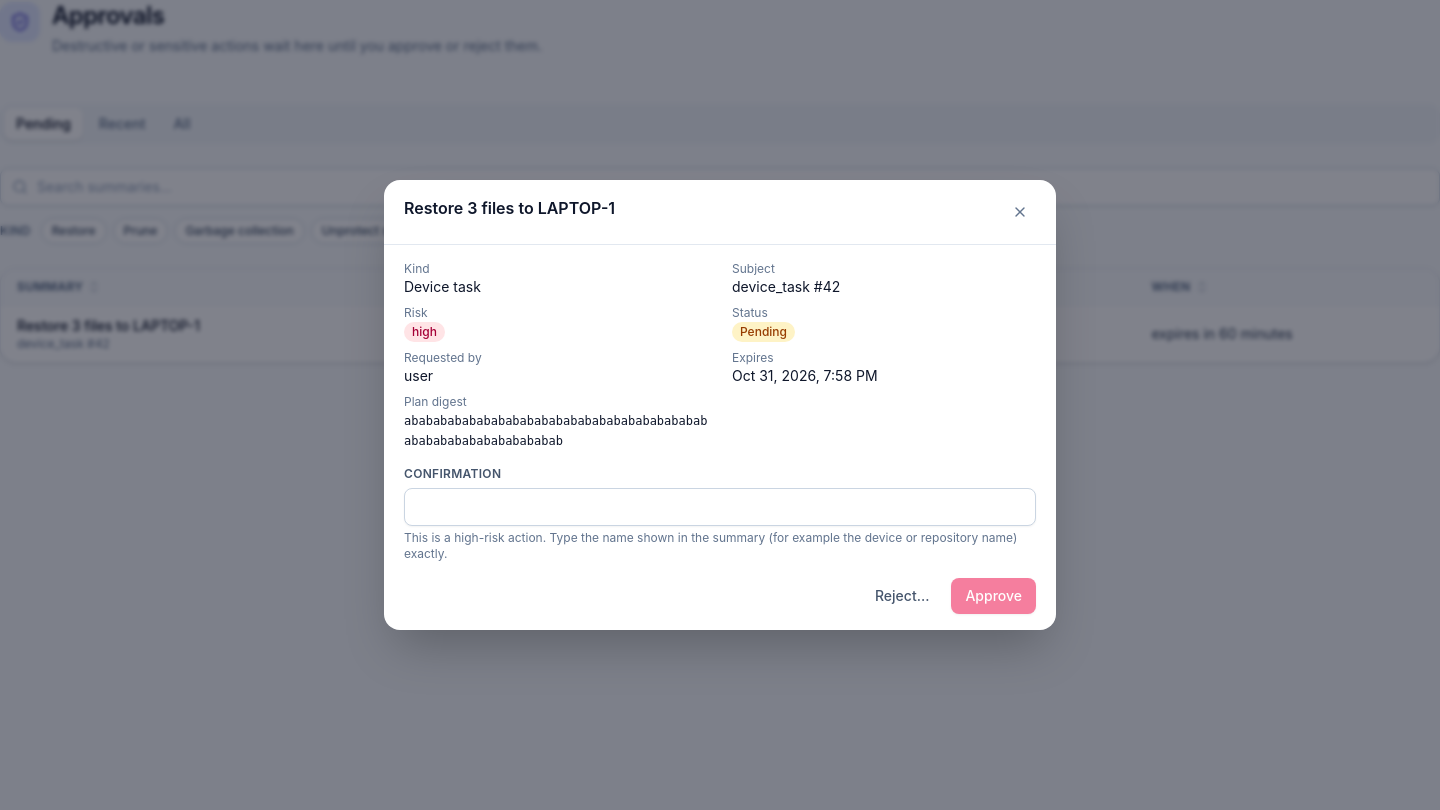
Test: ApprovalsPage › shows a clear message for 409 approval_not_pending
Type "X" into the field named "Confirmation text" at (720, 507), box [404,488,1036,526]
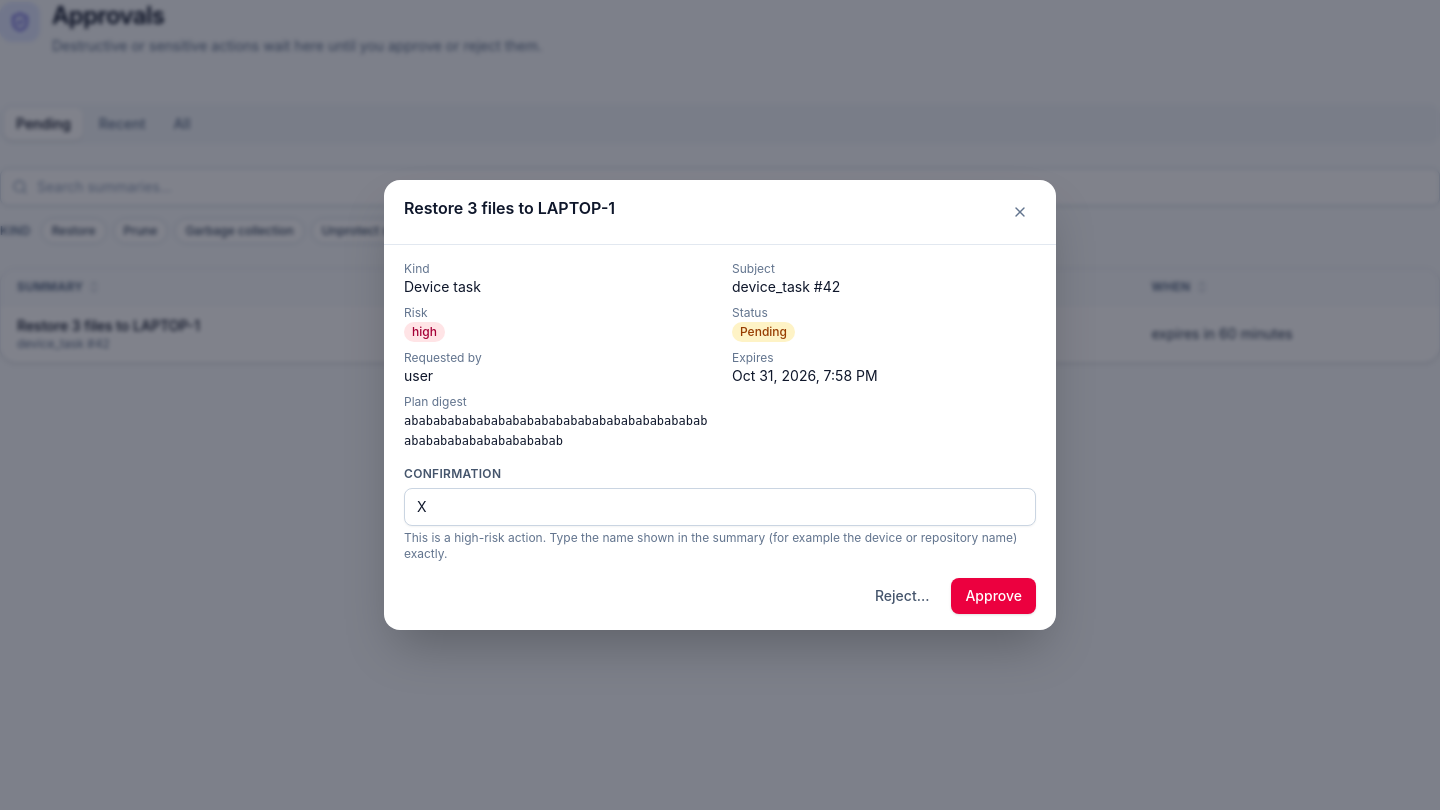
Click the button "Approve" at (994, 596), box [951,578,1036,614]
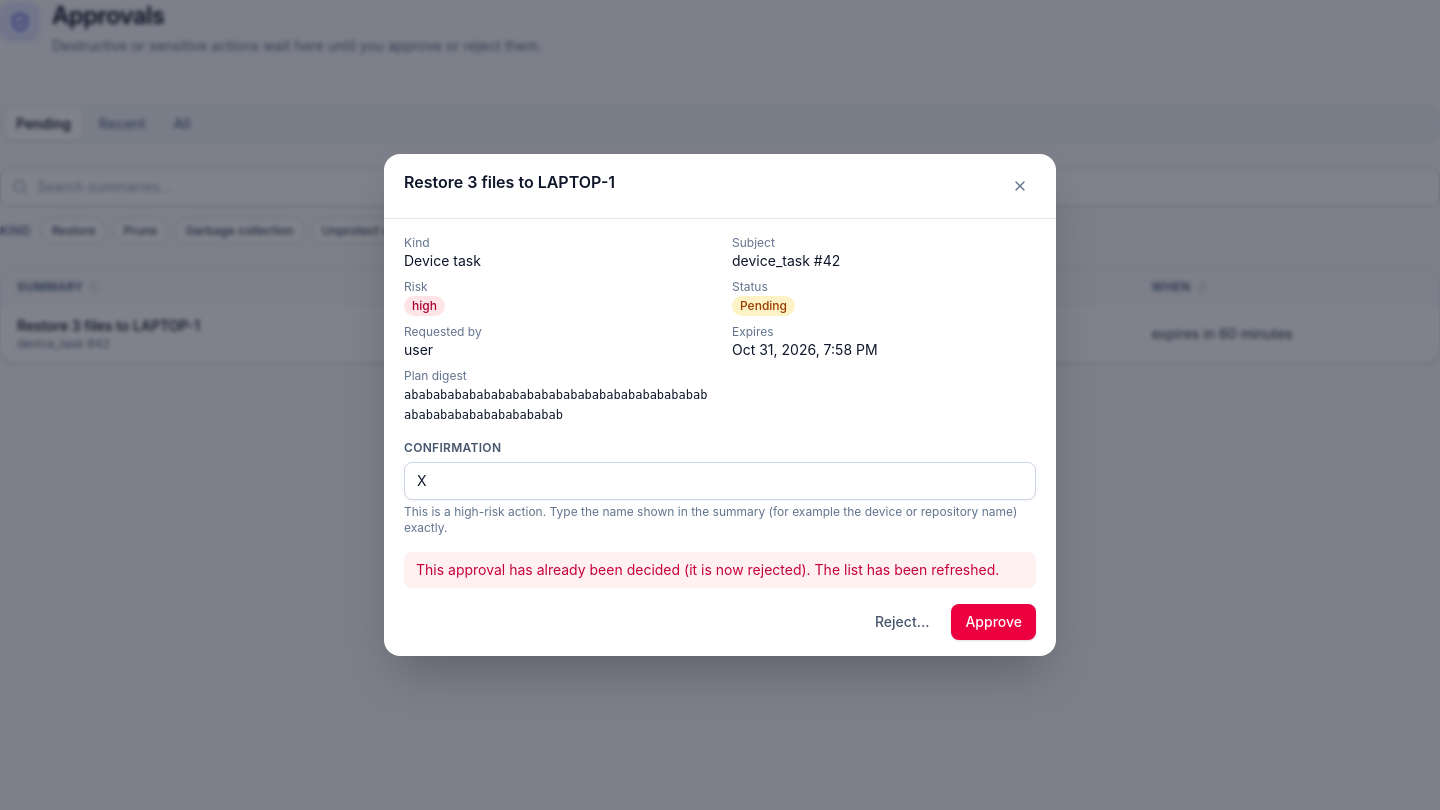
Expected: the dialog is shown, [384,154,1056,656]
Now the message shows "already been decided (it is now rejected)", box [416,561,999,578]
